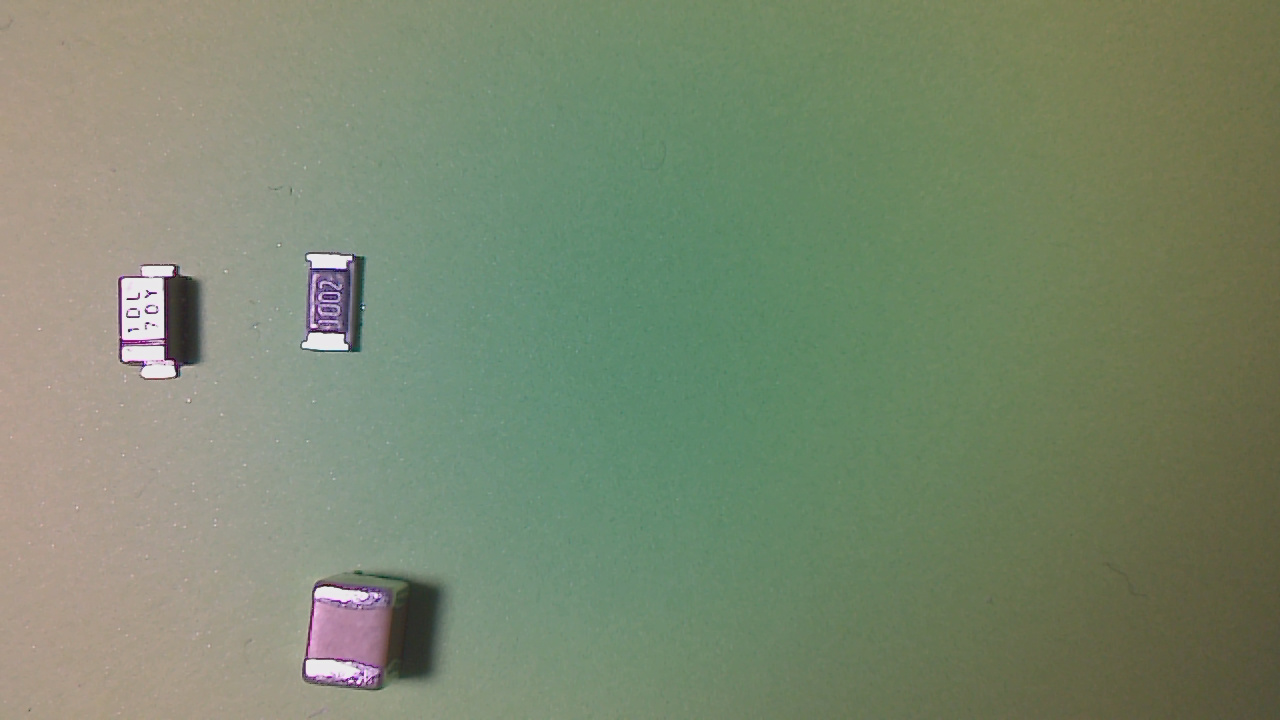Condensator: (308, 587, 406, 698)
Diode: (119, 266, 199, 385)
Resistor: (309, 253, 368, 362)
